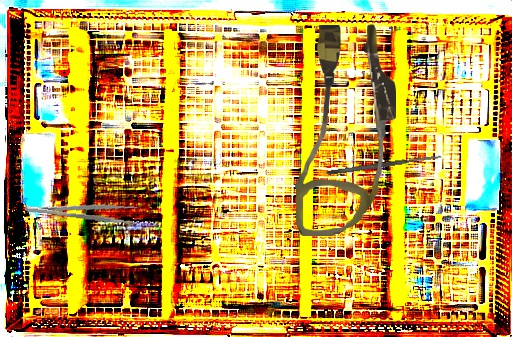Cannula: (292, 23, 399, 237)
Dressing Forceps: (24, 194, 138, 226)
Spatula Surgical: (326, 153, 443, 177)
